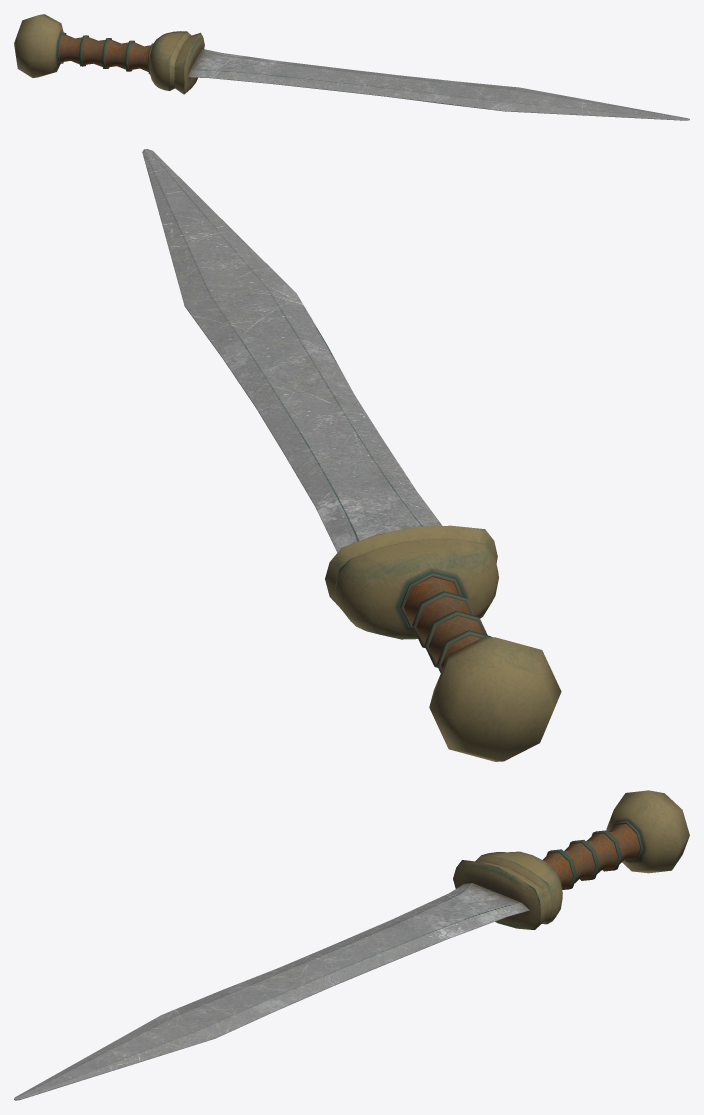
Rendered from roman_sword.fbx.
The picture shows the model from 3 angles, top to bottom: view 1: azimuth 30°, elevation 25°; view 2: azimuth 150°, elevation 25°; view 3: azimuth 270°, elevation 25°; orthographic projection. The views are drawn at different scales.
Parts seen in each view (by area): view 1: Plane002, Plane003, empunhadura, esfera; view 2: Plane002, Plane003, esfera, empunhadura; view 3: Plane002, Plane003, esfera, empunhadura.
Boxes of the visible parts, x1=… form: Plane002: x1=188, y1=49, x2=689, y2=120; Plane003: x1=149, y1=31, x2=204, y2=94; empunhadura: x1=57, y1=32, x2=153, y2=74; esfera: x1=14, y1=14, x2=63, y2=77; Plane002: x1=142, y1=149, x2=442, y2=552; Plane003: x1=325, y1=525, x2=498, y2=639; esfera: x1=429, y1=636, x2=561, y2=761; empunhadura: x1=400, y1=572, x2=491, y2=673; Plane002: x1=14, y1=883, x2=529, y2=1100; Plane003: x1=453, y1=851, x2=562, y2=929; esfera: x1=606, y1=790, x2=689, y2=873; empunhadura: x1=543, y1=821, x2=643, y2=889.
Size of the model in its own units: 2 by 0.2708 by 2.
Materials: 1 (1 with a texture image).
